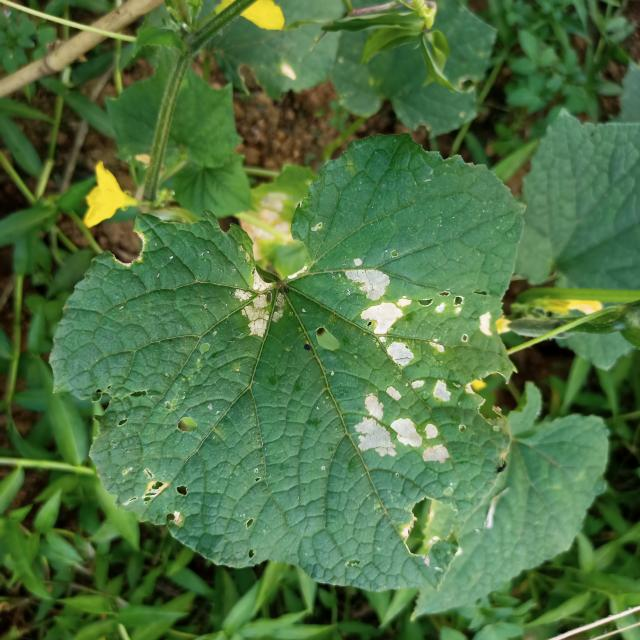disease_cucumber: (338, 254, 480, 482), (227, 265, 291, 344)
